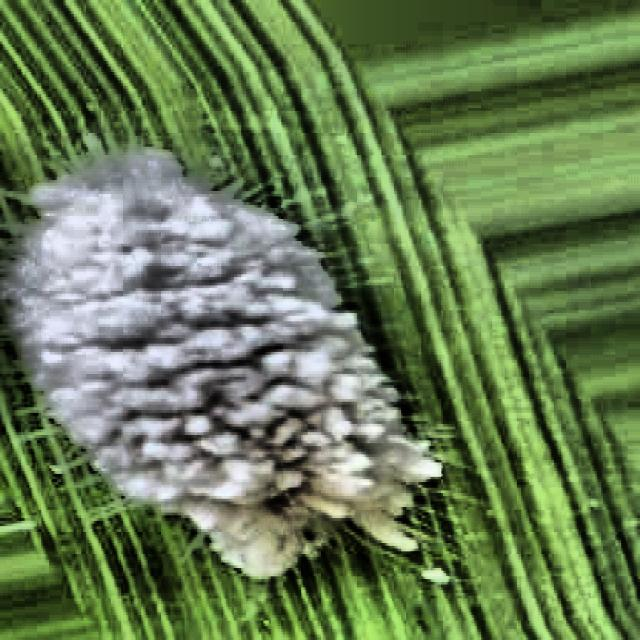Mealy-bug: (0, 97, 454, 621)
